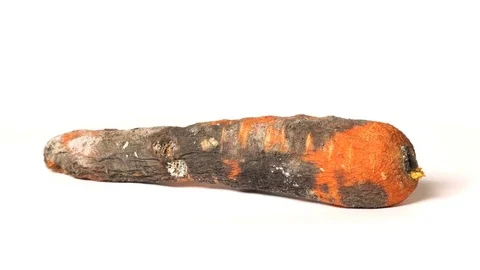rotten carrot: (28, 99, 454, 246)
